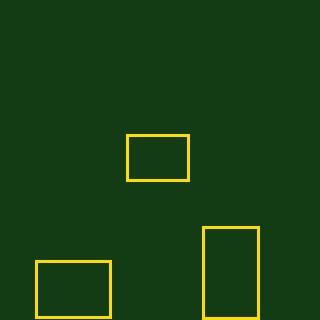bird: (202, 226, 259, 319), (35, 260, 111, 318)
drone: (126, 134, 189, 181)
